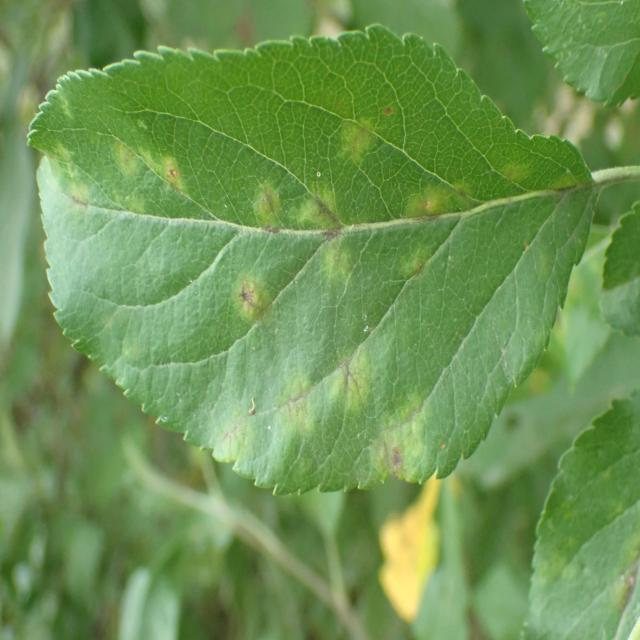scab: (38, 71, 550, 501)
